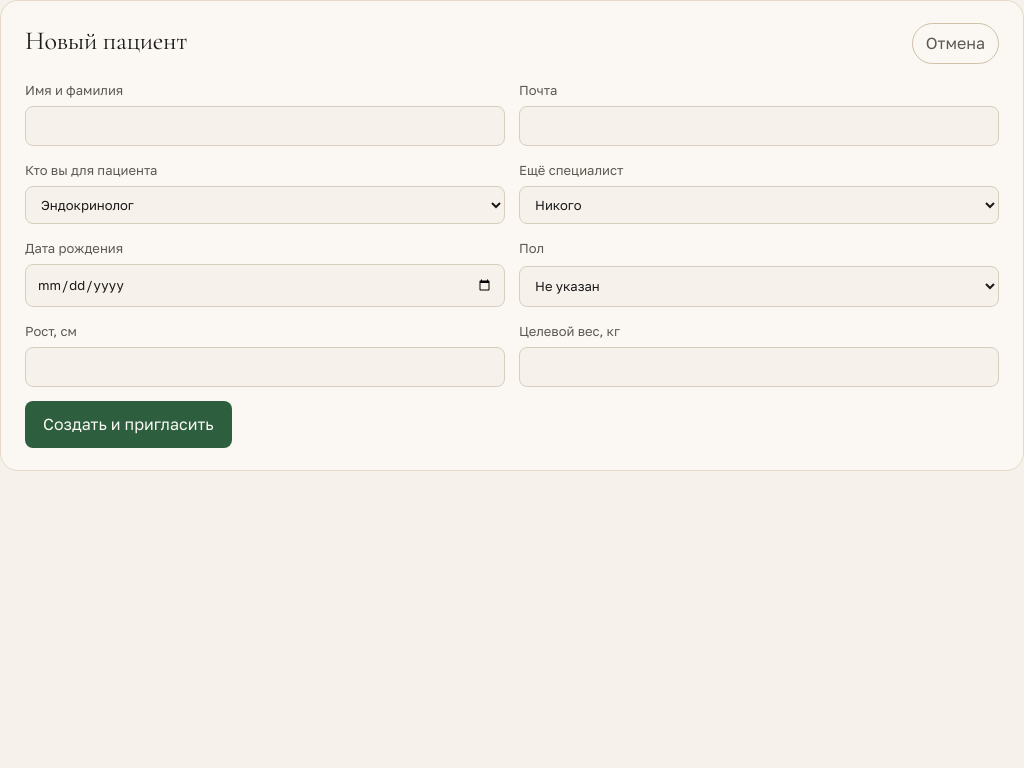
Test: what the form does with a refusal › says in Russian that the invitation could not be sent, and that the patient was not created
Type "Марина Волкова" into the field labelled "Имя и фамилия".
click(265, 126); type("Марина Волкова")  # box [25, 106, 505, 146]
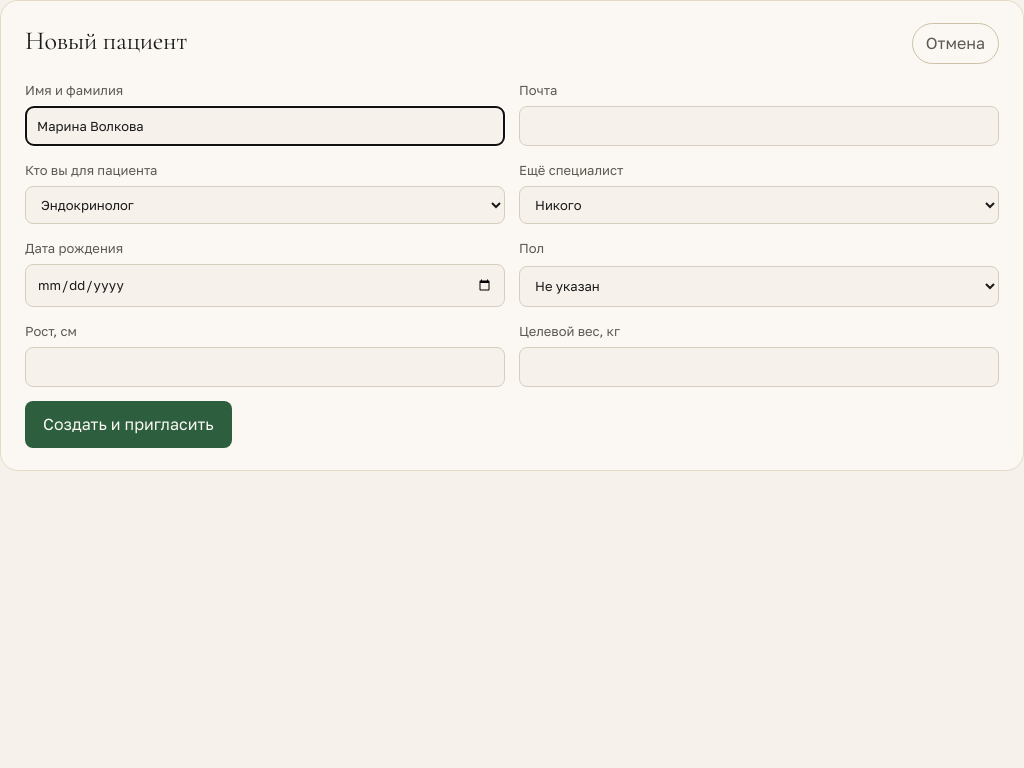
Type "marina@clinic.example" into the field labelled "Почта".
click(759, 126); type("marina@clinic.example")  # box [519, 106, 999, 146]
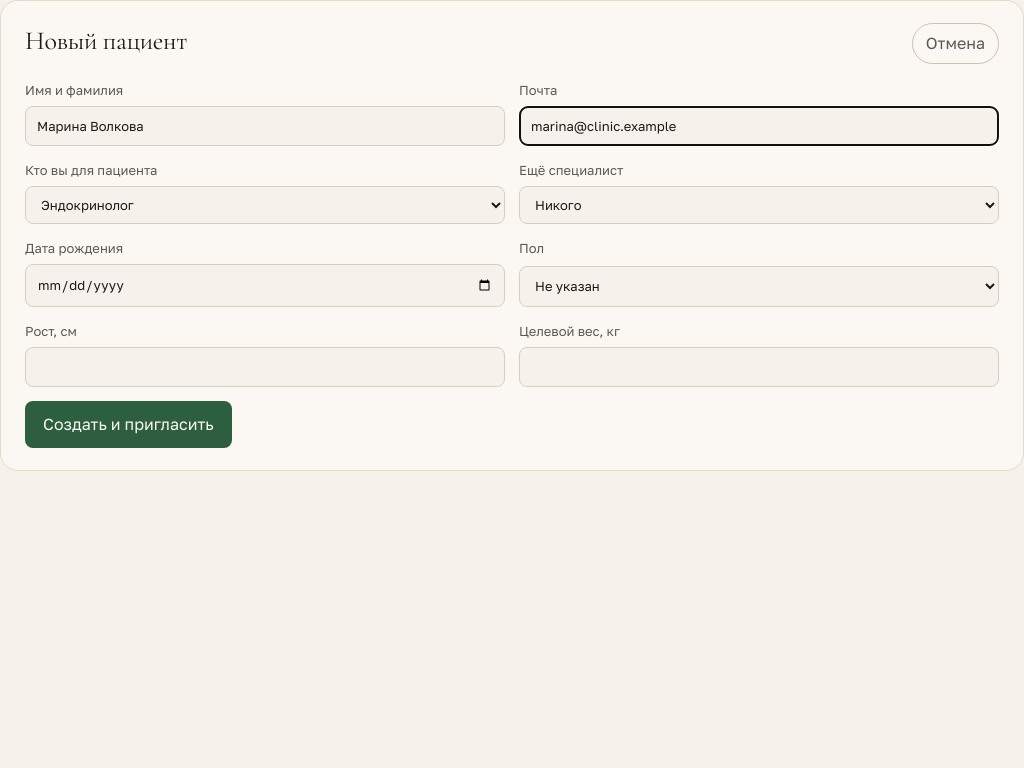
Click the button "Создать и пригласить".
click(128, 424)  # box [25, 401, 232, 448]
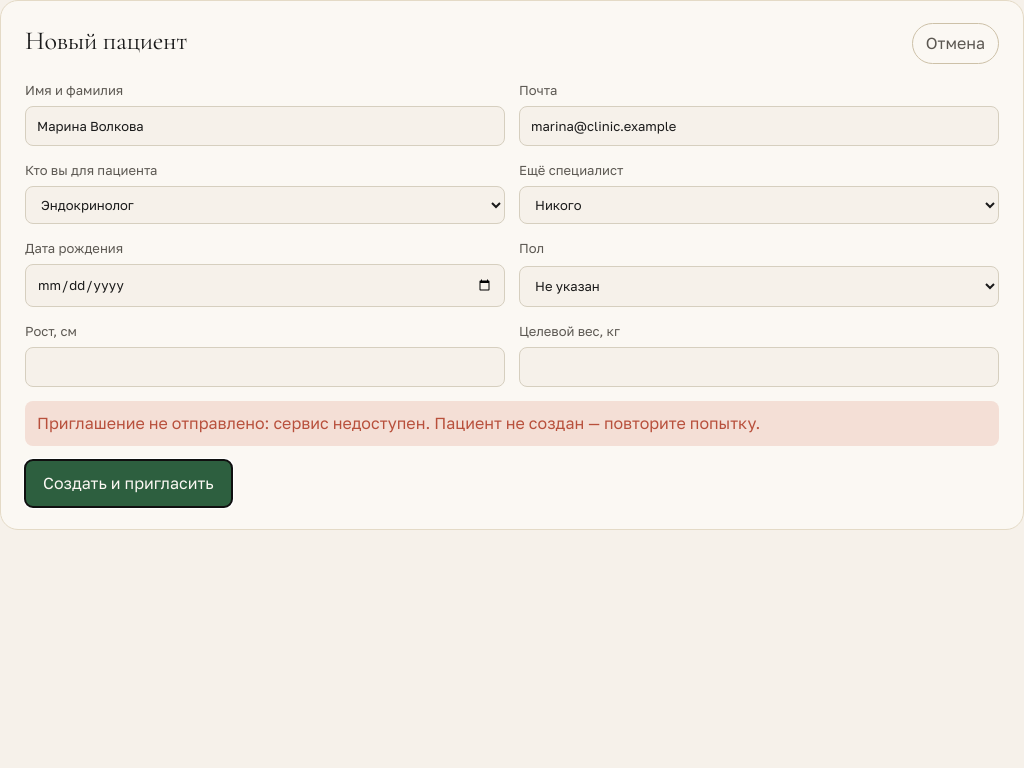
Result: the message shows "Приглашение не отправлено" at [37, 413, 760, 433]
